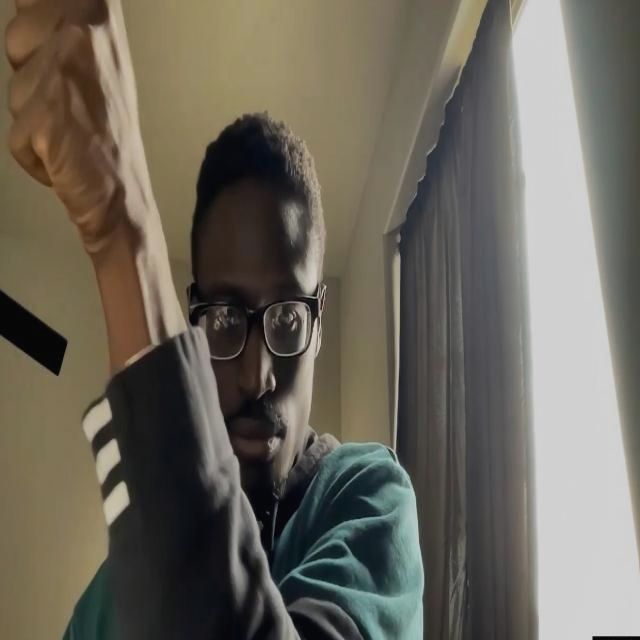Rock: (6, 0, 138, 256)
